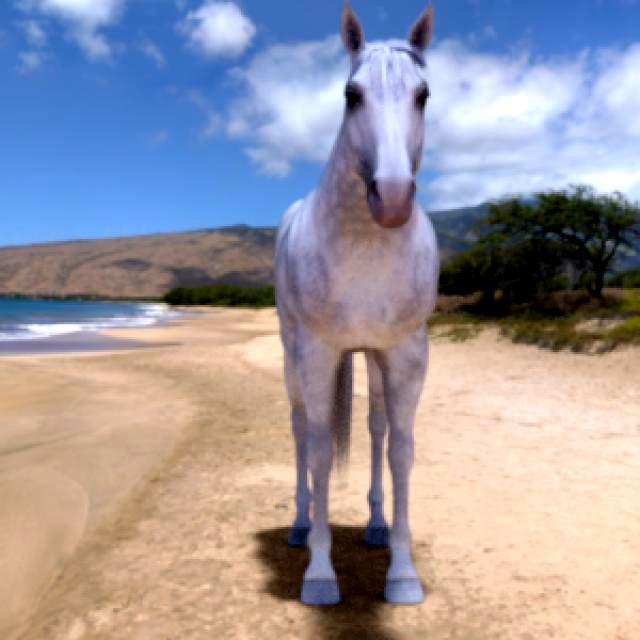horse: (276, 5, 439, 604)
